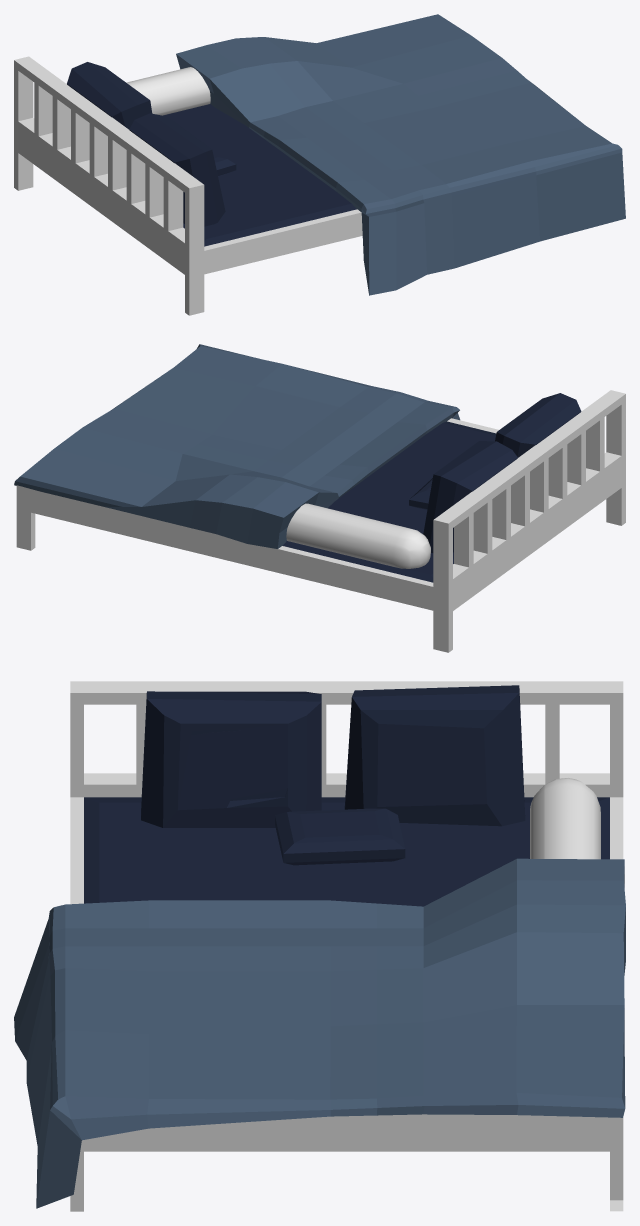
Rendered from bed.fbx.
The picture shows the model from 3 angles, top to bottom: view 1: azimuth 30°, elevation 25°; view 2: azimuth 150°, elevation 25°; view 3: azimuth 270°, elevation 25°; orthographic projection. The views are drawn at different scales.
Visible parts, largest first — view 1: bed, SausagePillow; view 2: bed, SausagePillow; view 3: bed, SausagePillow.
Part boxes in pixels (left/top/right/bottom): bed: left=14, top=14, right=625, bottom=315; SausagePillow: left=126, top=67, right=210, bottom=115; bed: left=14, top=344, right=625, bottom=652; SausagePillow: left=286, top=503, right=430, bottom=568; bed: left=14, top=681, right=625, bottom=1211; SausagePillow: left=530, top=778, right=600, bottom=859.
Bounding box in the file's own units: 254 × 82.9 × 197.
